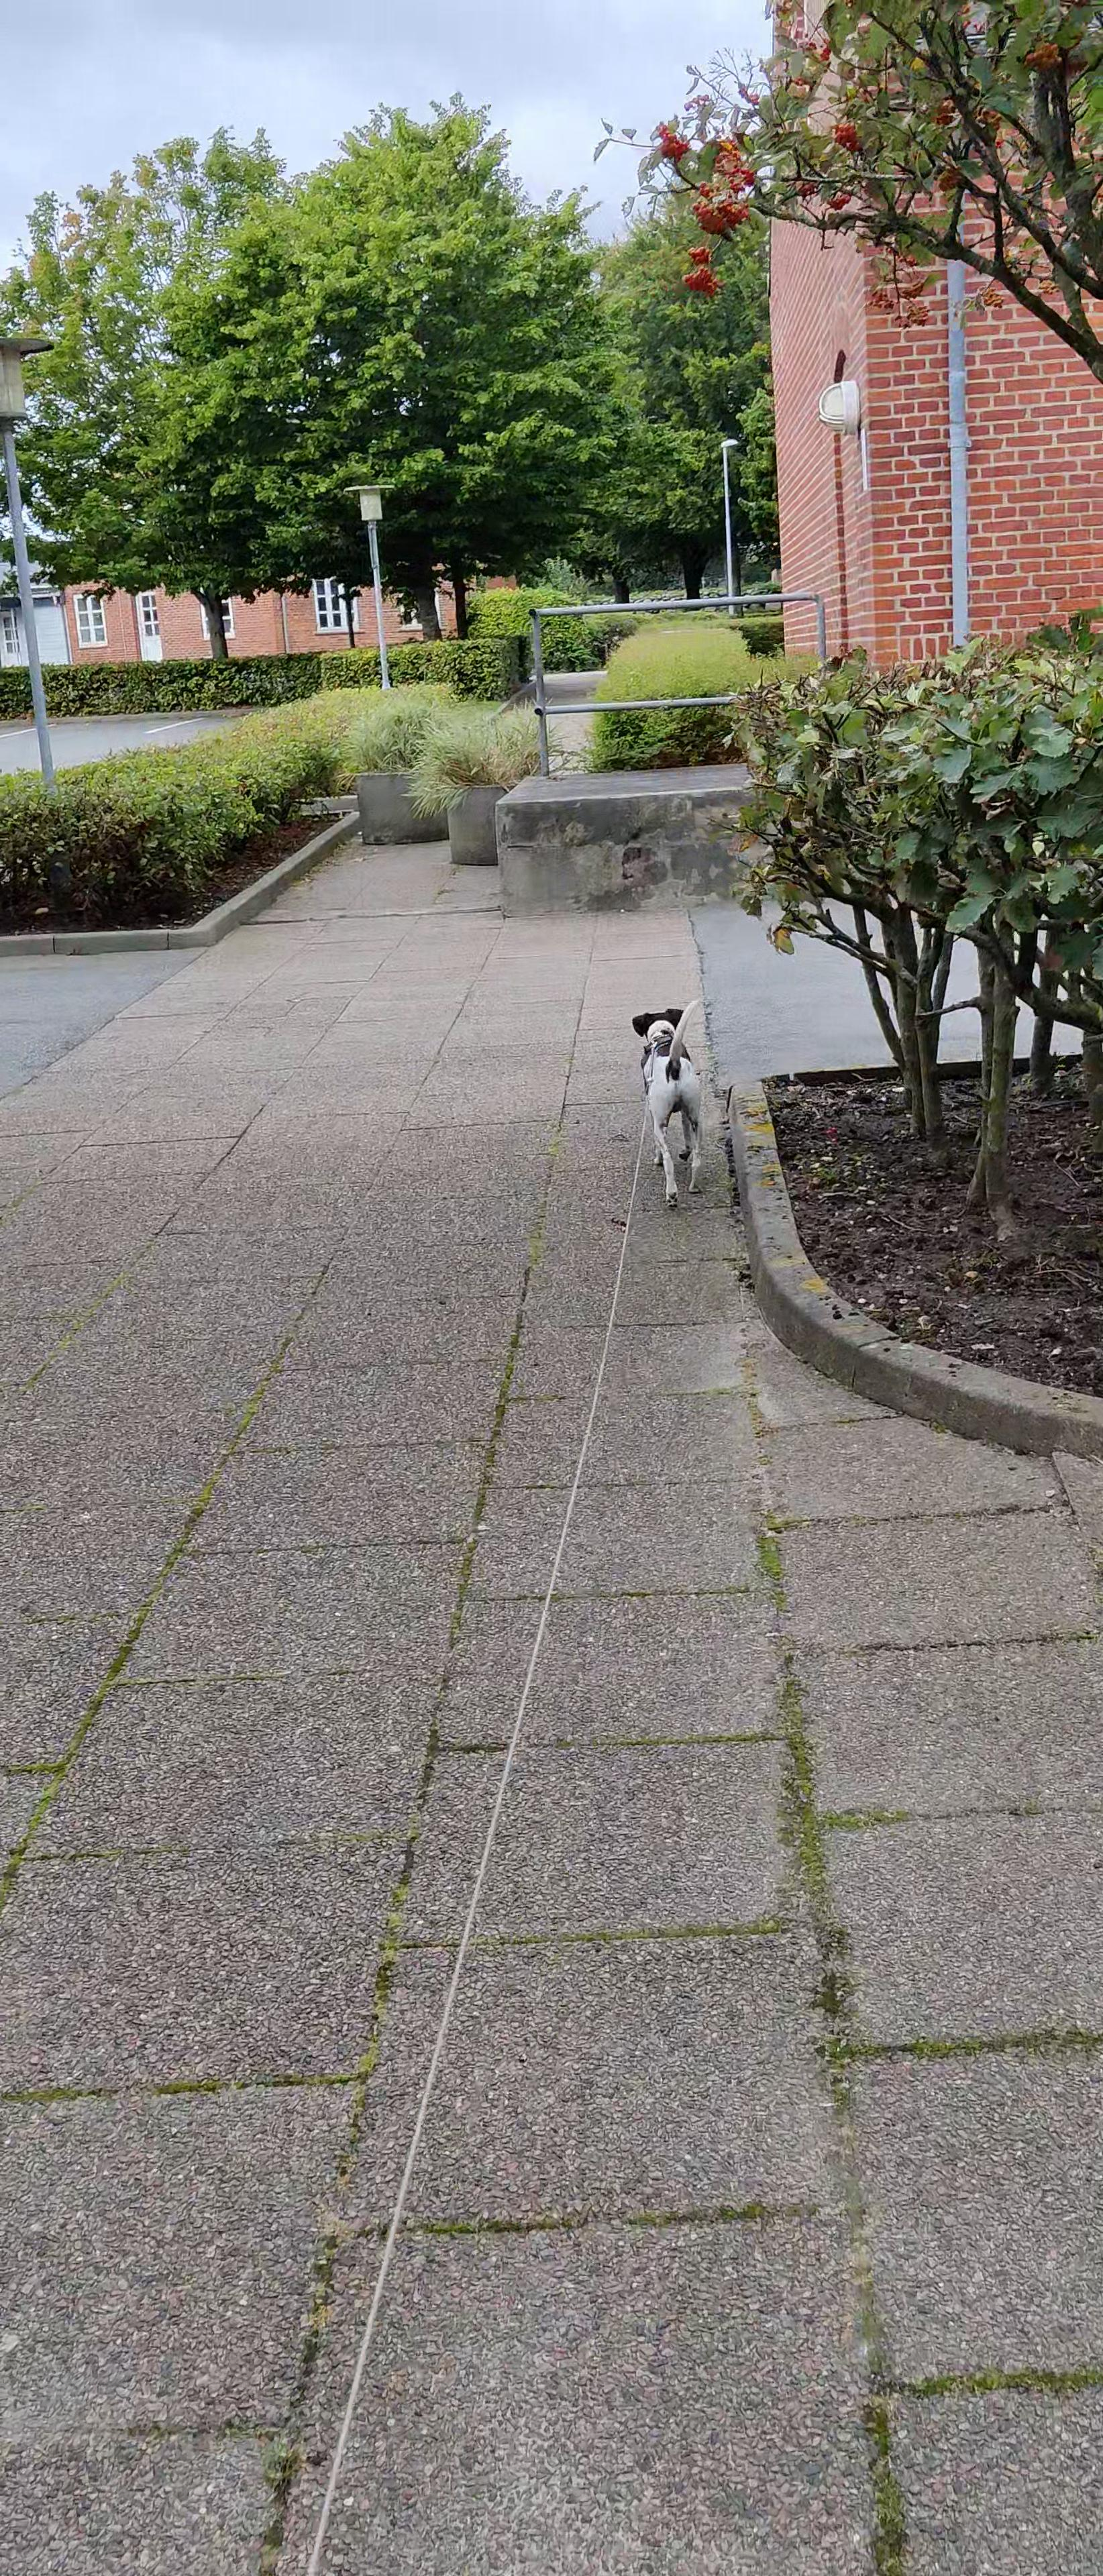Dog: (630, 994, 715, 1216)
